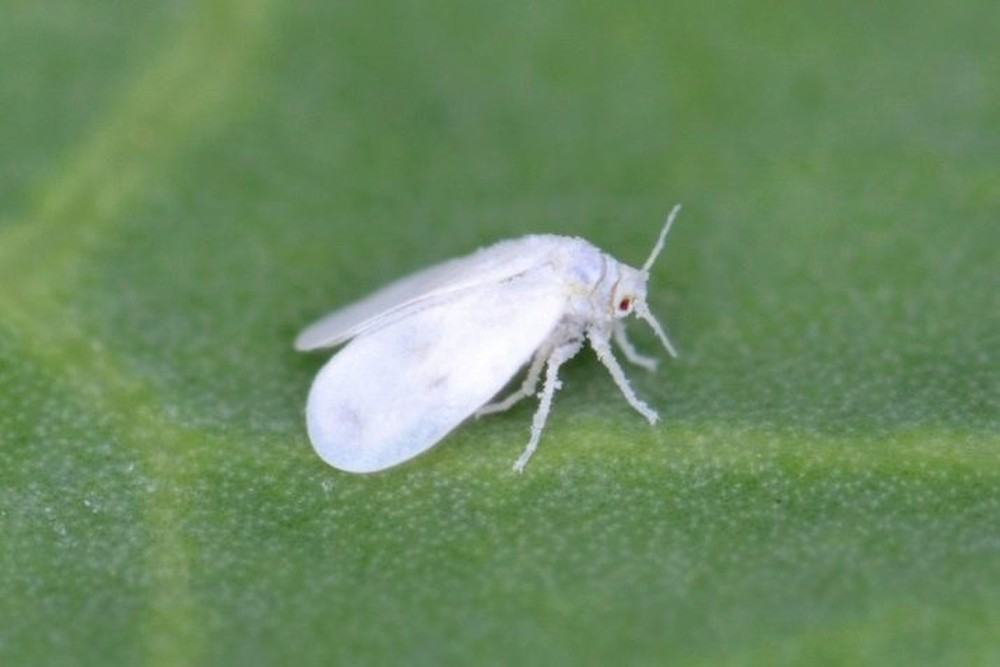Mosca Blanca: (272, 193, 729, 478)
